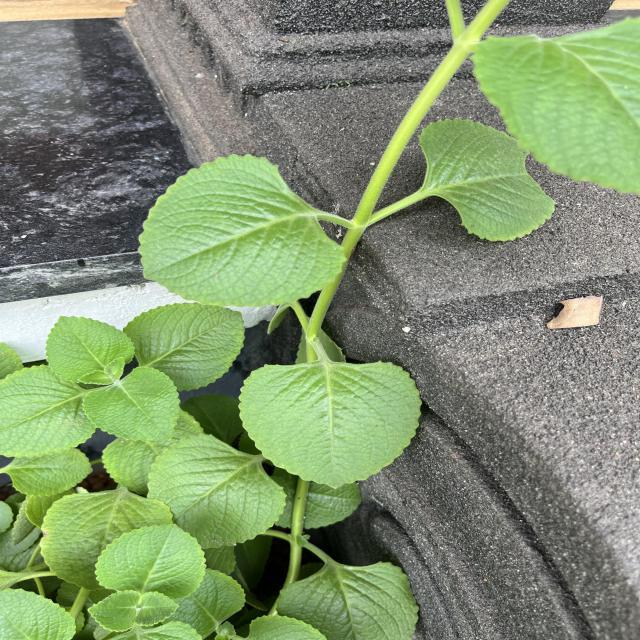Plectranthus barbatus: (137, 152, 348, 308), (237, 358, 425, 490), (416, 117, 556, 243), (146, 432, 288, 550), (39, 488, 172, 590), (274, 560, 418, 640), (122, 302, 246, 392), (0, 364, 97, 458), (94, 522, 207, 598), (82, 366, 182, 442), (45, 314, 136, 384), (5, 448, 94, 498), (87, 590, 141, 632)
